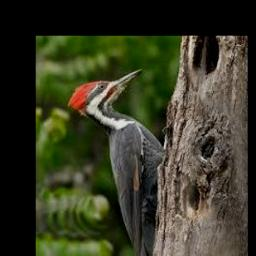Woodpecker: (68, 68, 166, 256)
